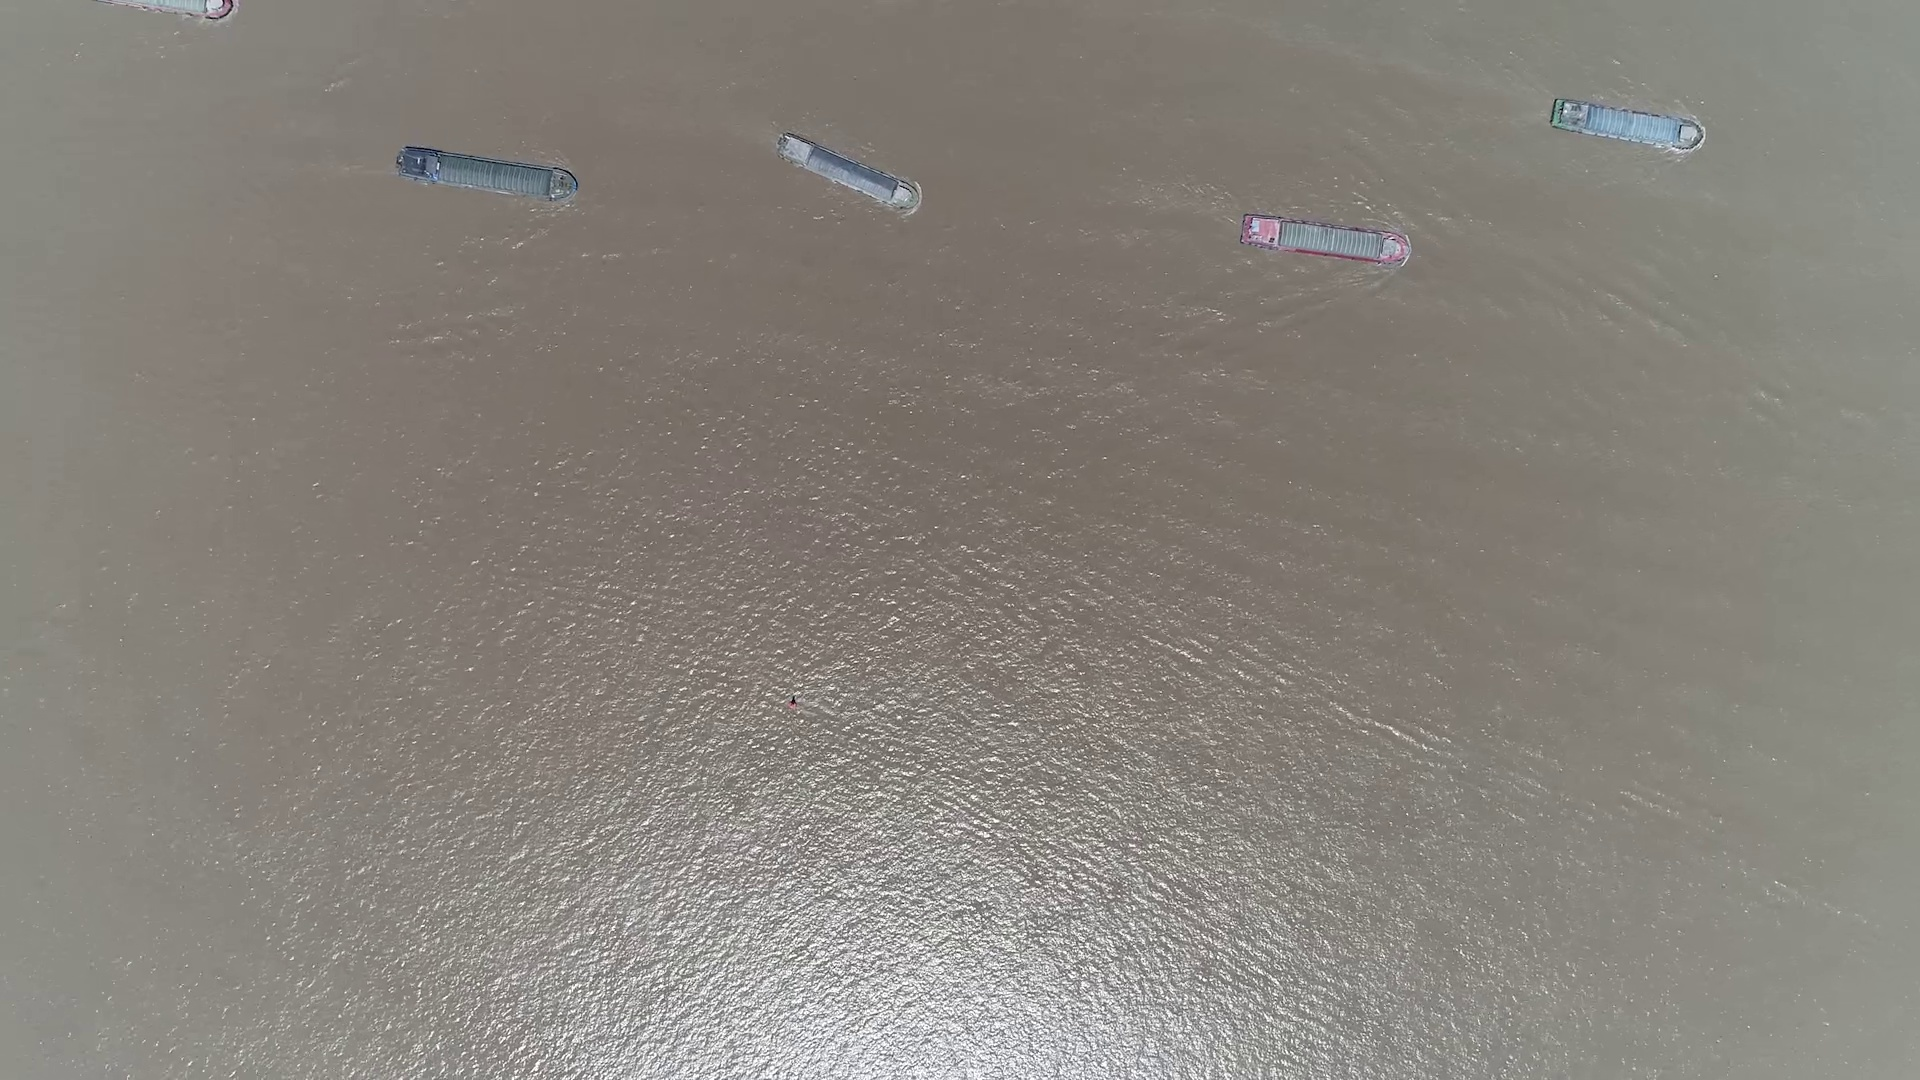ship: (775, 135, 920, 210), (396, 146, 579, 200), (1237, 215, 1411, 265), (1552, 102, 1702, 149)
